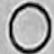no answer: (10, 1, 51, 54)
